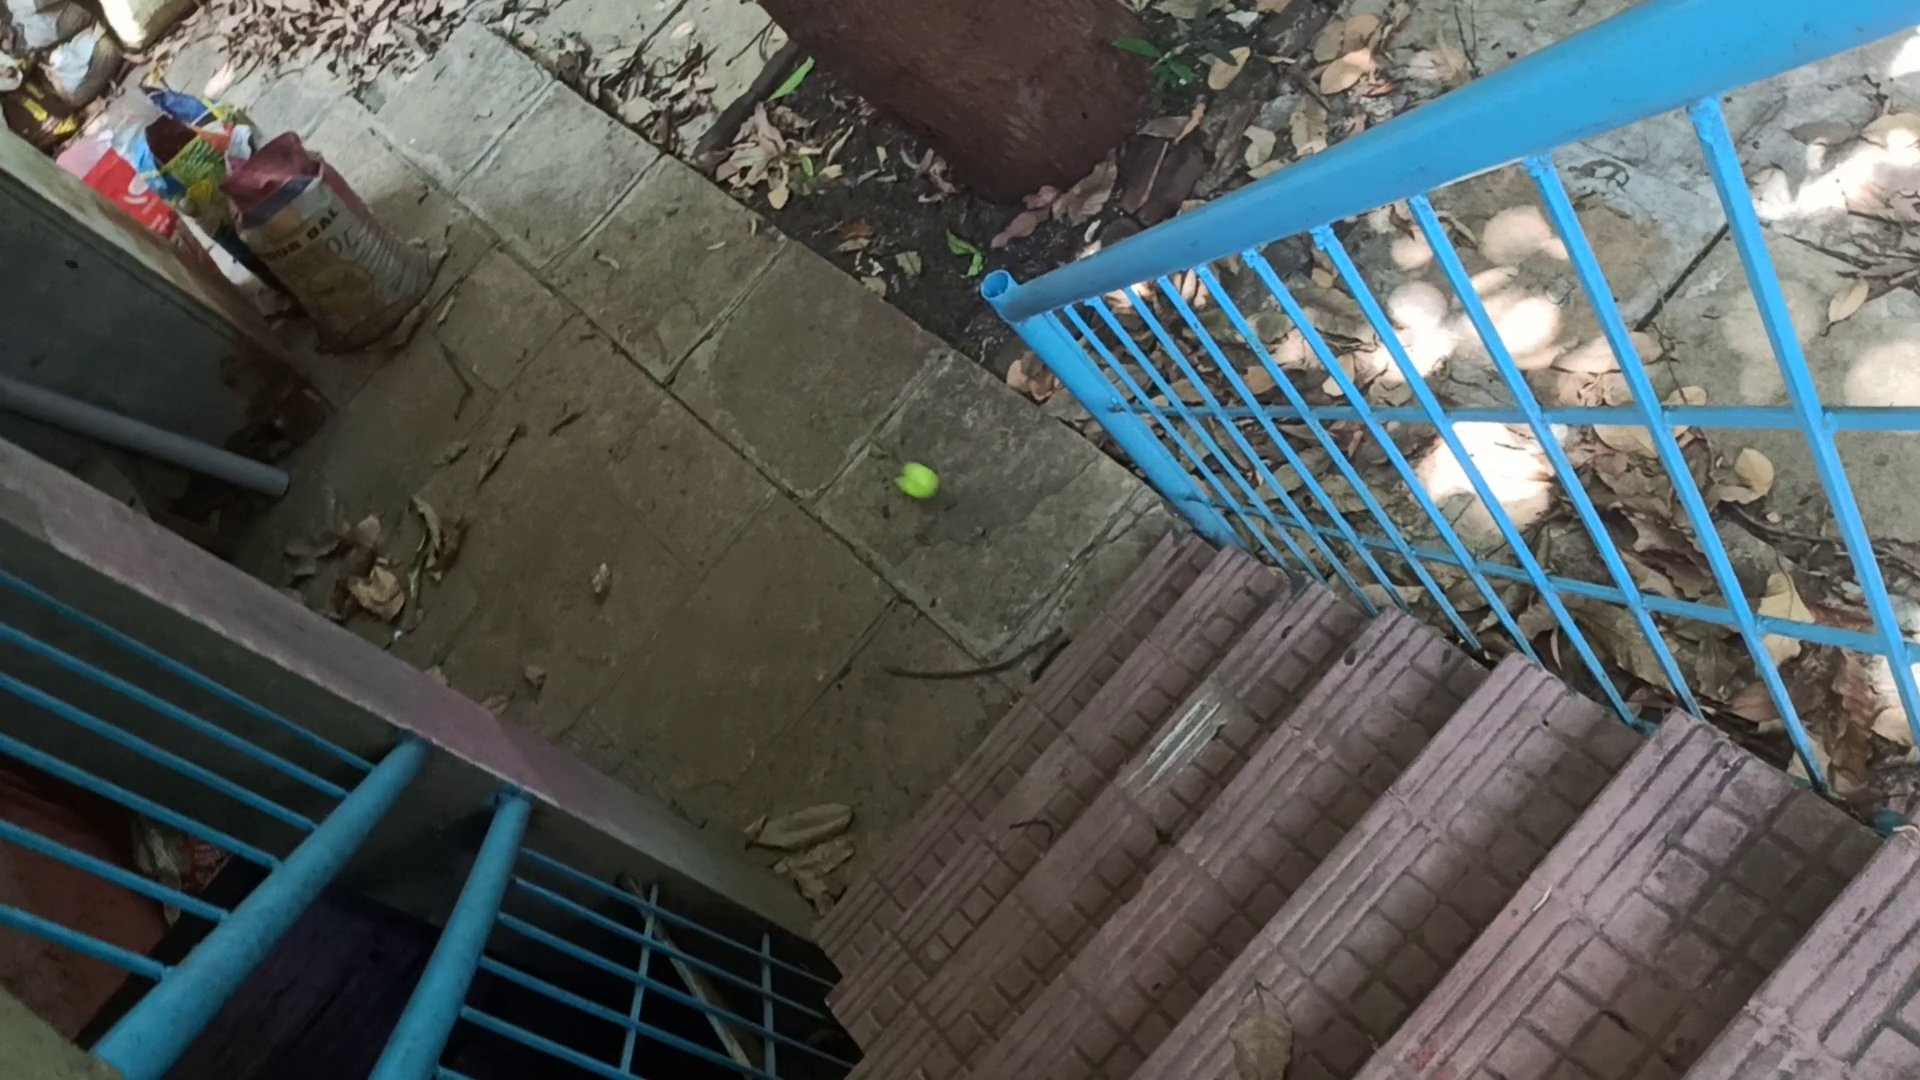Tennis-Ball: (894, 462, 939, 498)
